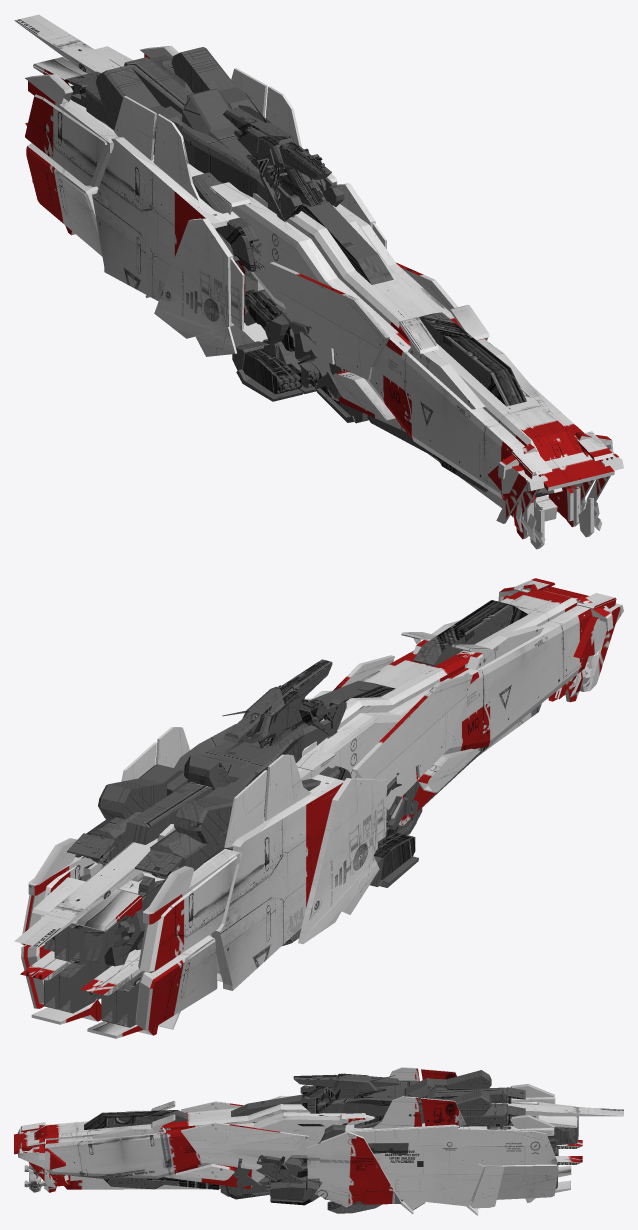
File: battleship003.FBX
3 renders of one model, top to bottom at view 1: azimuth 30°, elevation 25°; view 2: azimuth 150°, elevation 25°; view 3: azimuth 270°, elevation 25°, orthographic. The views are drawn at different scales.
Visible parts, largest first — view 1: detailbody003, mainframe003, headbody003, mainbody003, bridge003; view 2: detailbody003, mainbody003, mainframe003, headbody003, bridge003; view 3: detailbody003, mainbody003, mainframe003, headbody003, bridge003.
Part boxes in pixels (left/top/right/bottom): detailbody003: left=14, top=14, right=623, bottom=549; mainframe003: left=65, top=47, right=564, bottom=497; headbody003: left=231, top=191, right=589, bottom=500; mainbody003: left=25, top=45, right=267, bottom=346; bridge003: left=223, top=93, right=344, bottom=222; detailbody003: left=14, top=578, right=623, bottom=995; mainbody003: left=20, top=774, right=344, bottom=1038; mainframe003: left=43, top=600, right=528, bottom=1027; headbody003: left=297, top=588, right=604, bottom=780; bridge003: left=222, top=659, right=346, bottom=749; detailbody003: left=14, top=1067, right=623, bottom=1207; mainbody003: left=344, top=1084, right=577, bottom=1215; mainframe003: left=69, top=1070, right=578, bottom=1213; headbody003: left=30, top=1095, right=374, bottom=1178; bridge003: left=293, top=1073, right=399, bottom=1113.
Size of the model in its own units: 1484 by 2435 by 9657.
